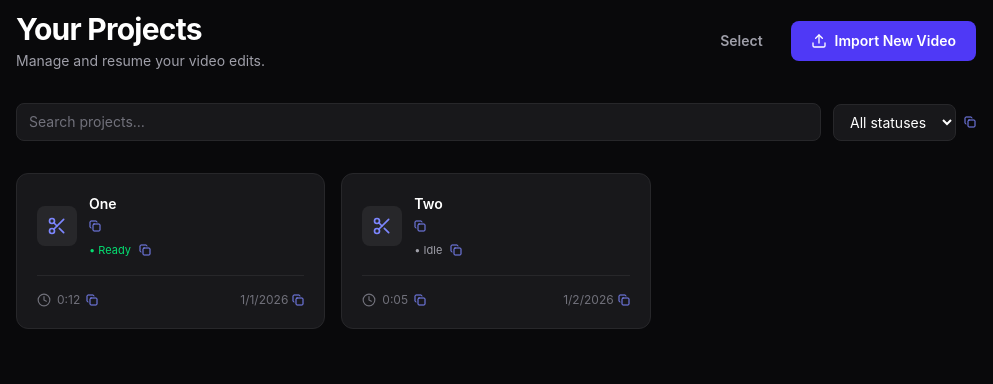
ProjectList › filters projects by status and can clear filters
Expected: the heading "One" is shown, x1=89 y1=195 x2=117 y2=212
Select "Idle" in the dropdown named "Filter by status" at (894, 122), box x1=833 y1=104 x2=956 y2=140
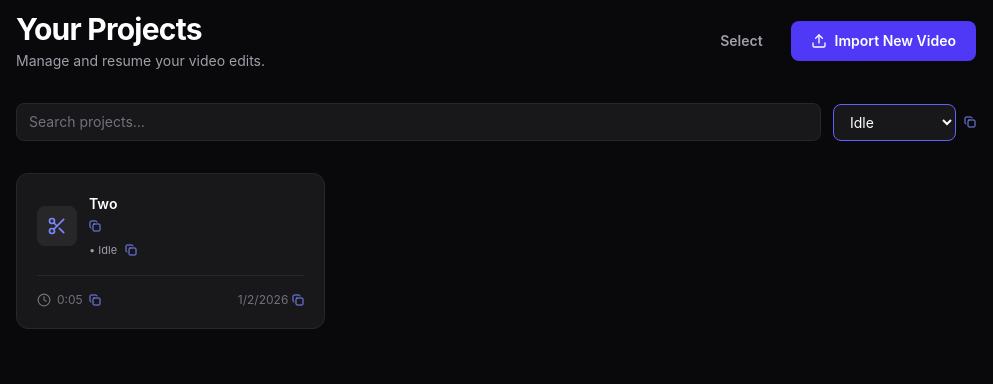
Expected: the heading "Two" is shown, x1=89 y1=195 x2=117 y2=212
Result: the heading "One" is gone
Select "Exporting" in the dropdown named "Filter by status" at (894, 122), box x1=833 y1=104 x2=956 y2=140
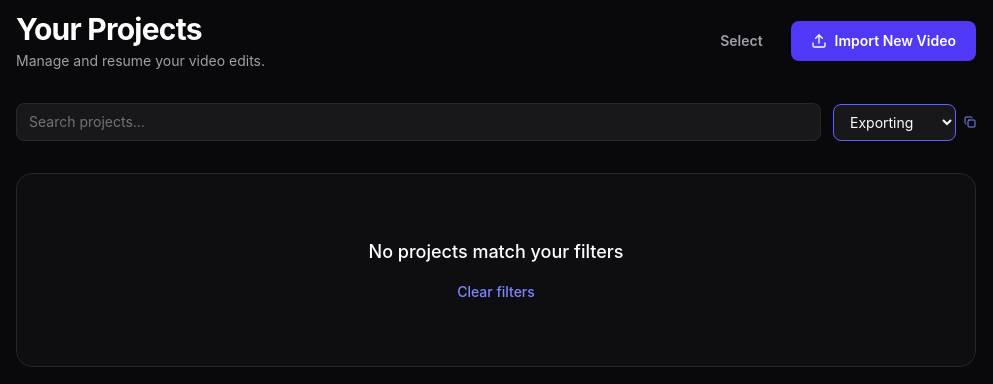
Result: the heading "No projects match your filters" is shown at x1=368 y1=238 x2=623 y2=266
Click the button "Clear filters" at (496, 292), box x1=457 y1=282 x2=535 y2=302
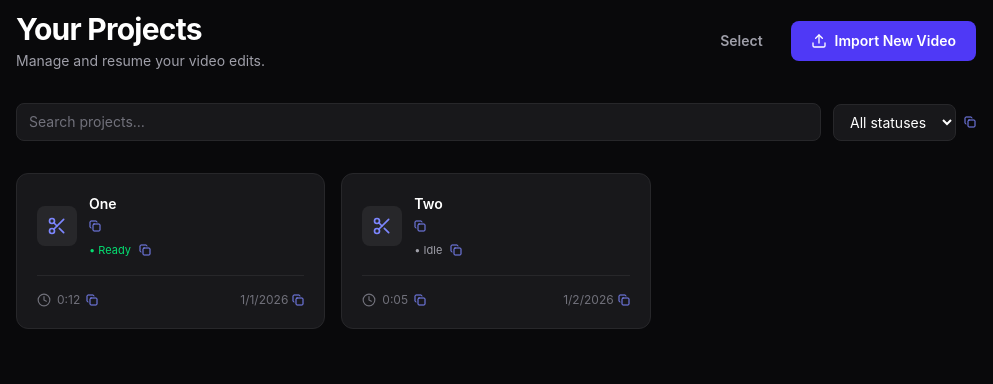
Result: the heading "One" is shown at x1=89 y1=195 x2=117 y2=212
Result: the heading "Two" is shown at x1=414 y1=195 x2=443 y2=212
